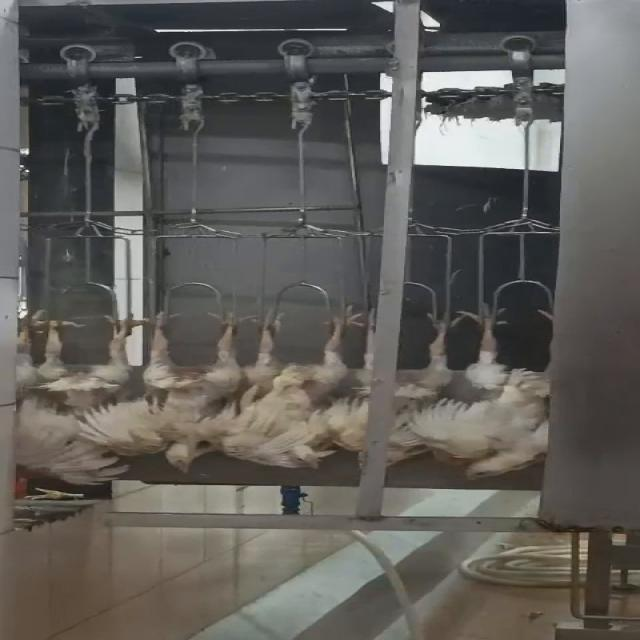chicken: (327, 304, 480, 471), (439, 302, 576, 484), (128, 298, 269, 474), (231, 298, 363, 474), (17, 309, 146, 489)
